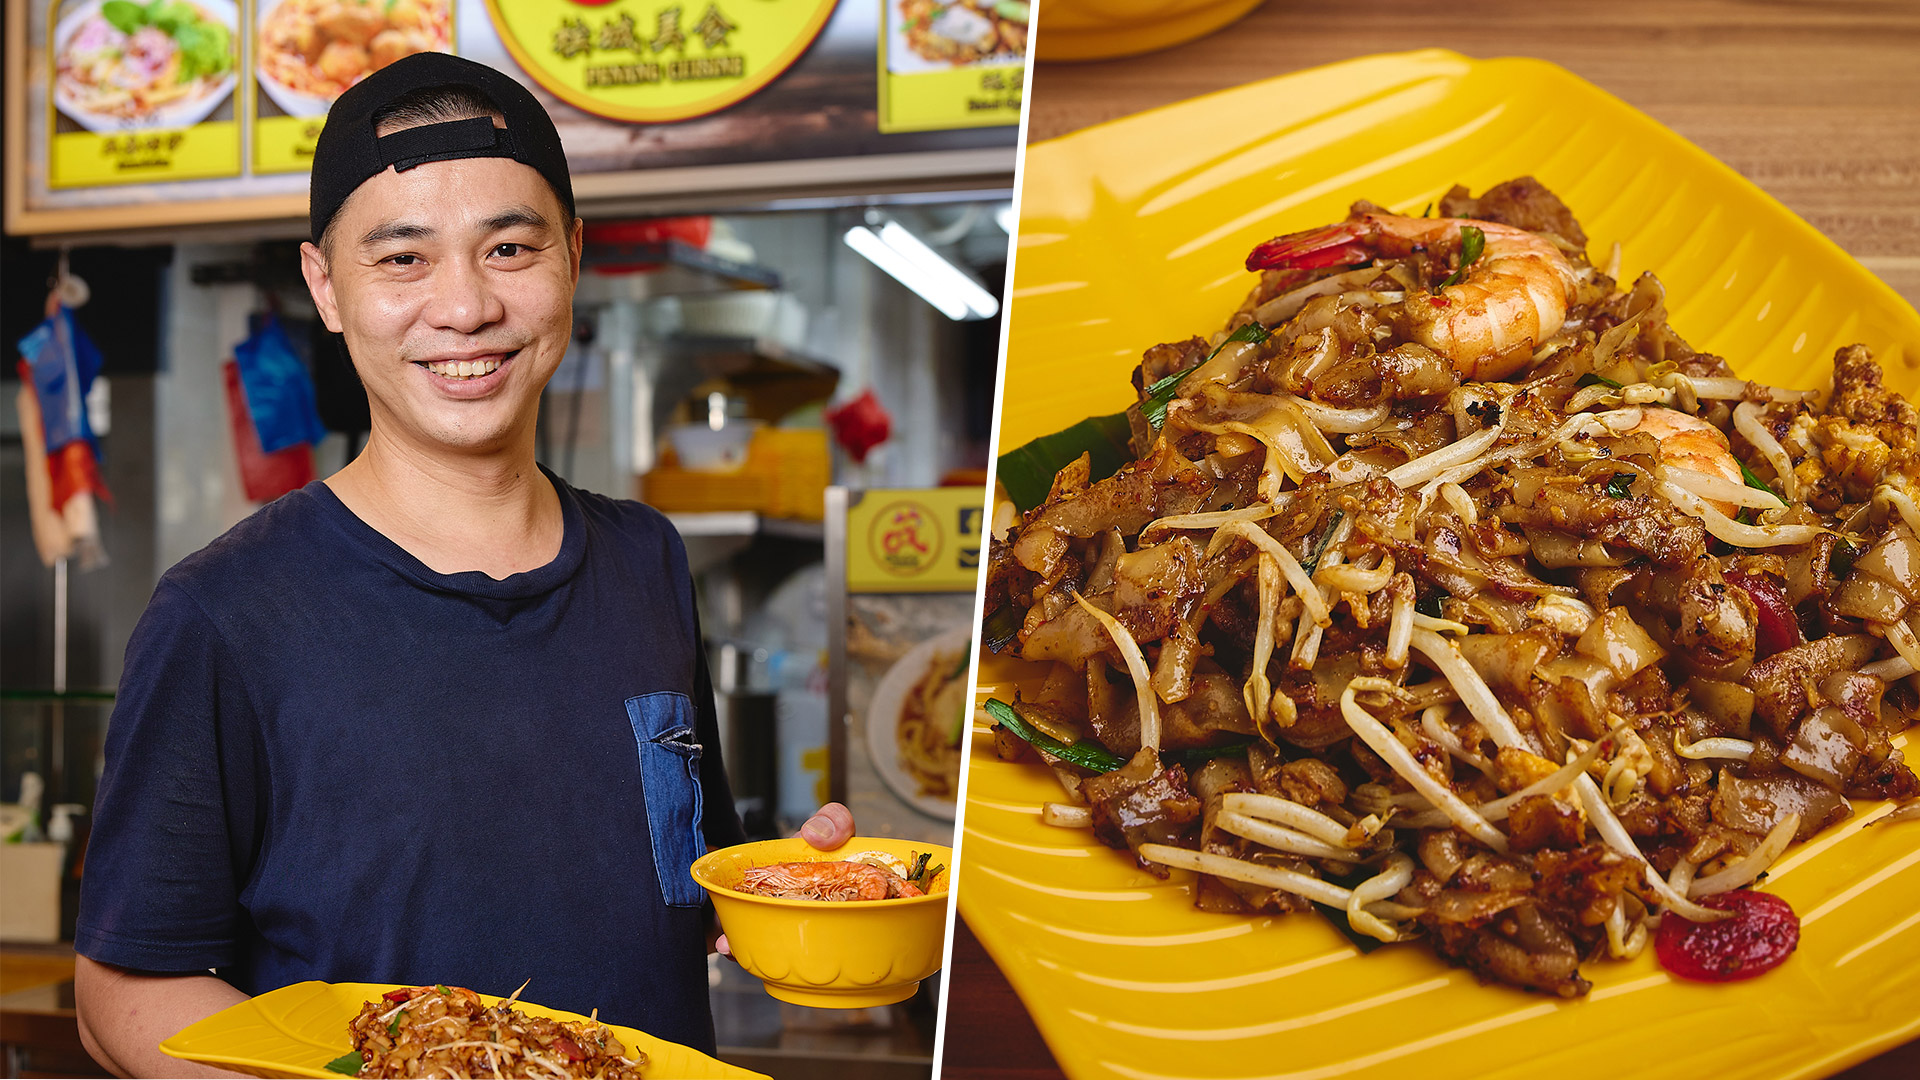Char Kway Teow: (1036, 174, 1917, 982), (306, 942, 665, 1079)
